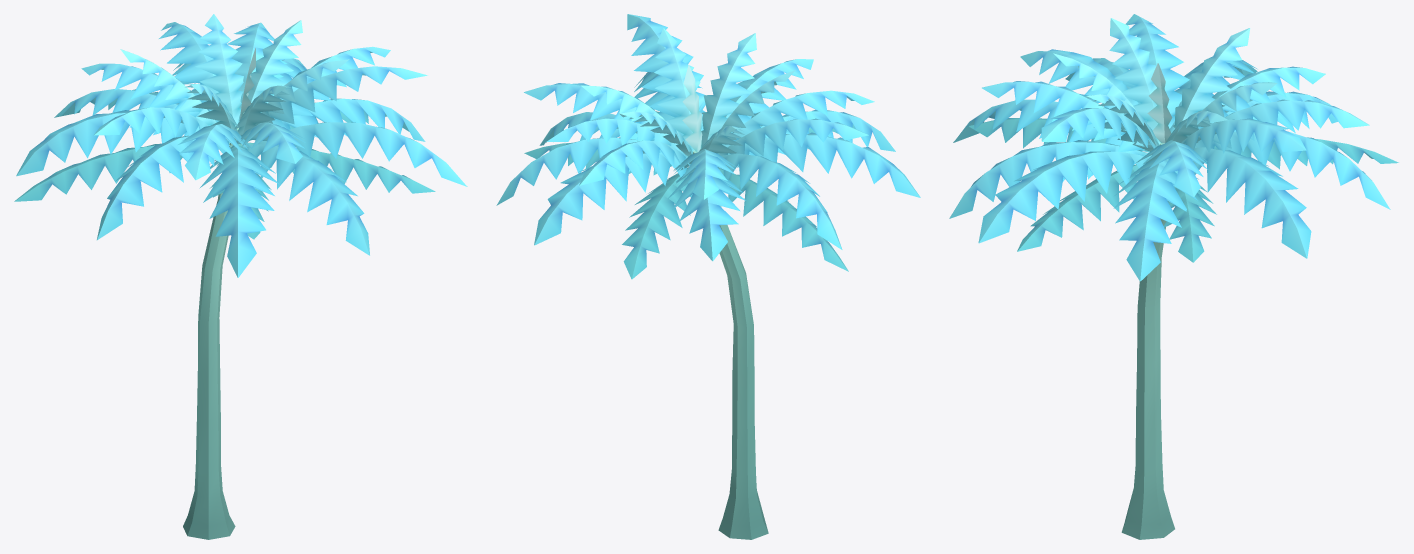
The model's file is alien_tree_lod1.glb.
The picture shows the model from 3 angles, left to right: view 1: azimuth 30°, elevation 25°; view 2: azimuth 150°, elevation 25°; view 3: azimuth 270°, elevation 25°; orthographic projection. The views are drawn at different scales.
Parts seen in each view (by area): view 1: AlienTree; view 2: AlienTree; view 3: AlienTree.
Part boxes in pixels (<box>): AlienTree: <box>14,14,467,539</box>; AlienTree: <box>496,14,920,539</box>; AlienTree: <box>949,14,1398,539</box>.
Size of the model in its own units: 3.83 by 4.7 by 3.89.
